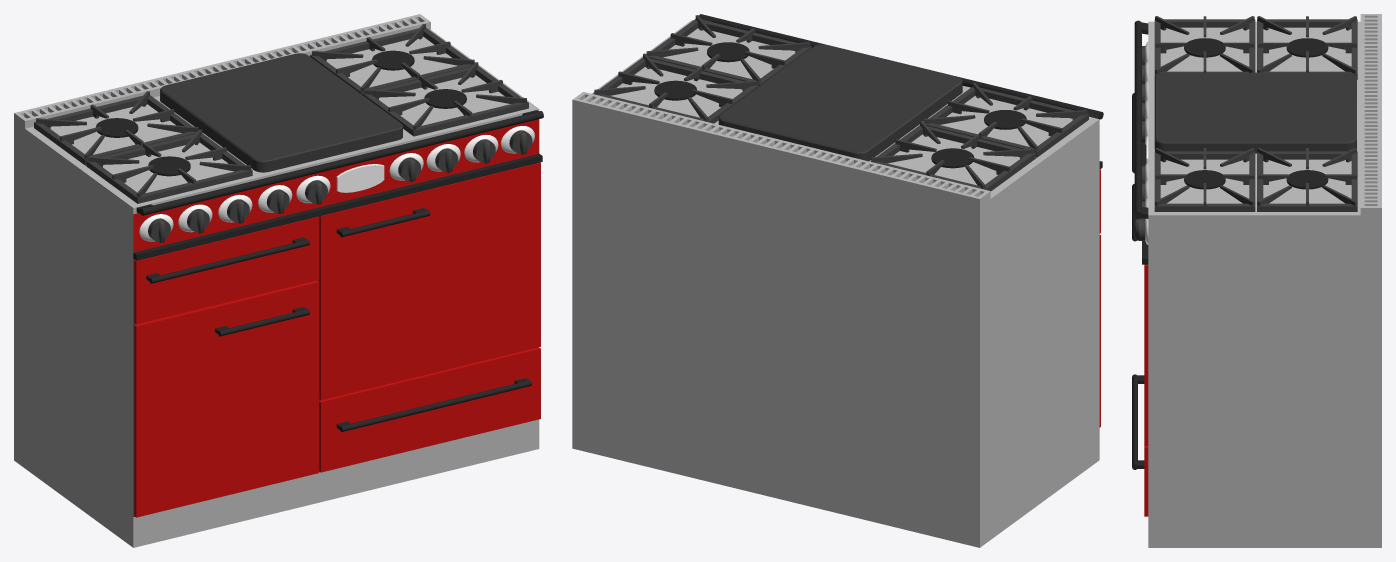
The model's file is Gaziniere.FBX.
The picture shows the model from 3 angles, left to right: view 1: azimuth 30°, elevation 25°; view 2: azimuth 150°, elevation 25°; view 3: azimuth 270°, elevation 25°; orthographic projection. The views are drawn at different scales.
Parts seen in each view (by area): view 1: Cuisiniere, PlanchePreparation, FeuxBasGauche, FeuxBasDroite, FeuxHautGauche, FeuxHautDroite; view 2: Cuisiniere, PlanchePreparation, FeuxBasGauche, FeuxHautGauche, FeuxBasDroite, FeuxHautDroite; view 3: Cuisiniere, PlanchePreparation, FeuxBasDroite, FeuxHautDroite, FeuxBasGauche, FeuxHautGauche.
Part boxes in pixels (left/top/right/bottom): Cuisiniere: left=14, top=14, right=543, bottom=547; PlanchePreparation: left=160, top=53, right=402, bottom=172; FeuxBasGauche: left=86, top=129, right=252, bottom=203; FeuxBasDroite: left=362, top=62, right=528, bottom=136; FeuxHautGauche: left=34, top=91, right=198, bottom=165; FeuxHautDroite: left=310, top=24, right=474, bottom=94; Cuisiniere: left=572, top=14, right=1103, bottom=547; PlanchePreparation: left=718, top=44, right=962, bottom=161; FeuxBasGauche: left=924, top=82, right=1088, bottom=157; FeuxHautGauche: left=870, top=121, right=1036, bottom=191; FeuxBasDroite: left=646, top=15, right=811, bottom=86; FeuxHautDroite: left=593, top=53, right=759, bottom=123; Cuisiniere: left=1132, top=14, right=1381, bottom=547; PlanchePreparation: left=1154, top=72, right=1356, bottom=153; FeuxBasDroite: left=1154, top=148, right=1255, bottom=211; FeuxHautDroite: left=1257, top=148, right=1357, bottom=211; FeuxBasGauche: left=1154, top=16, right=1255, bottom=76; FeuxHautGauche: left=1257, top=16, right=1357, bottom=79.
Bounding box in the file's own units: 43.31 × 35.82 × 23.58.
